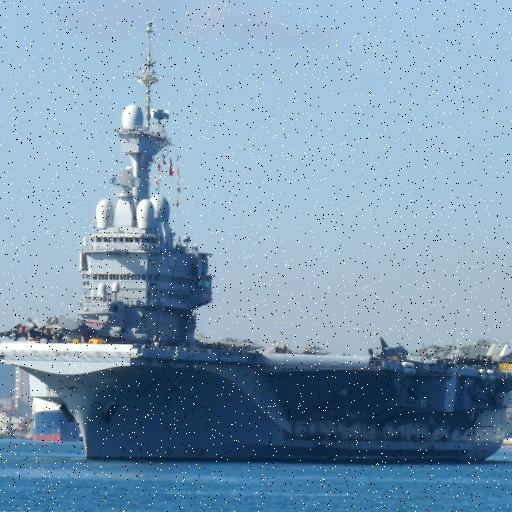Portanaves: (1, 13, 512, 464)
